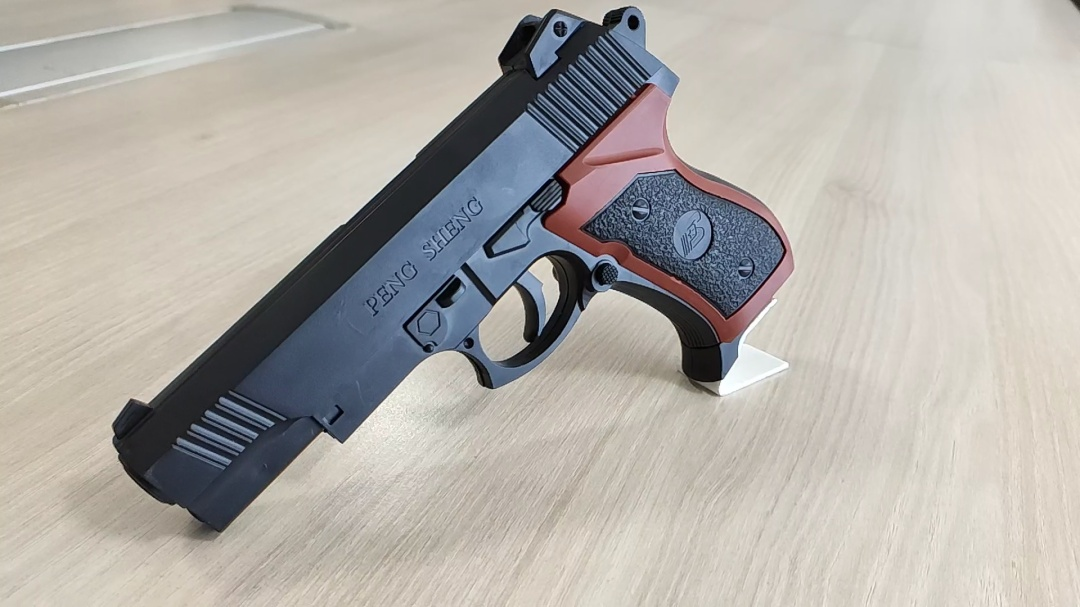gun: (604, 221, 766, 289)
